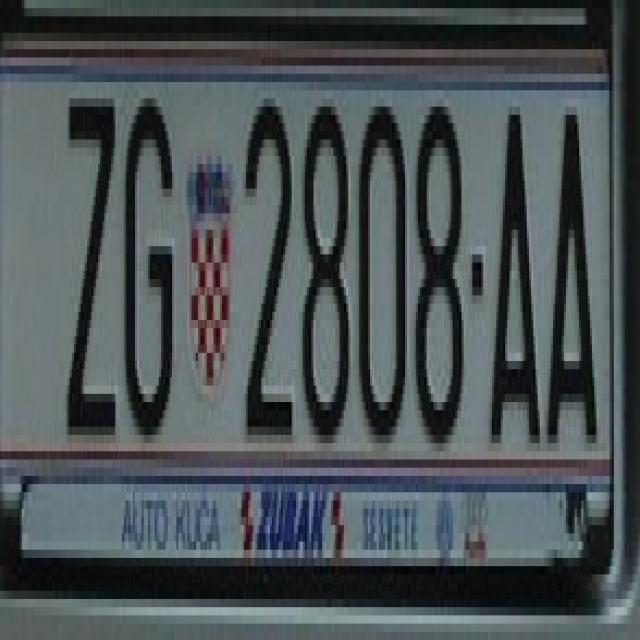0: (357, 90, 407, 443)
2: (244, 90, 296, 443)
8: (411, 90, 466, 443), (302, 74, 352, 435)
A: (485, 90, 542, 443), (546, 90, 601, 443)
G: (122, 82, 176, 427)
Z: (68, 90, 120, 443)
